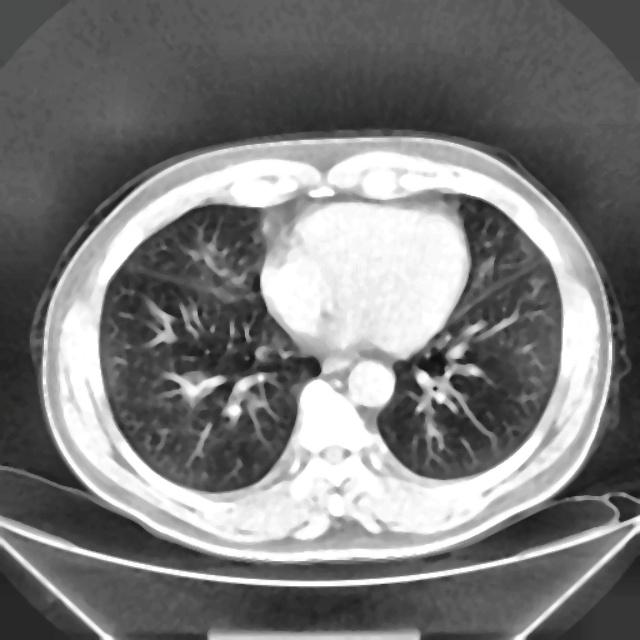covid: (32, 130, 627, 562)
